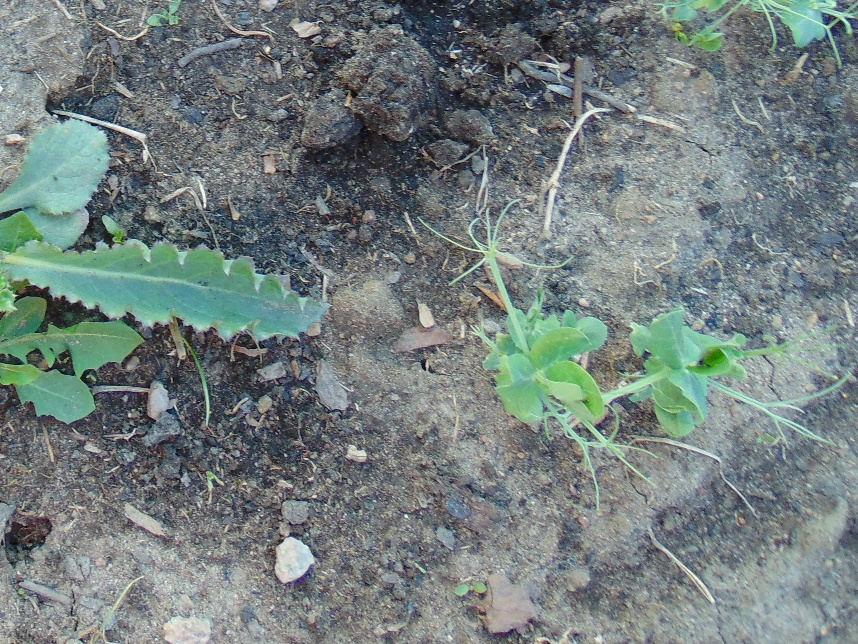crop: (590, 302, 834, 488), (456, 218, 606, 473), (651, 1, 854, 62)
weed: (1, 112, 326, 425), (147, 1, 181, 26), (453, 578, 486, 599)
